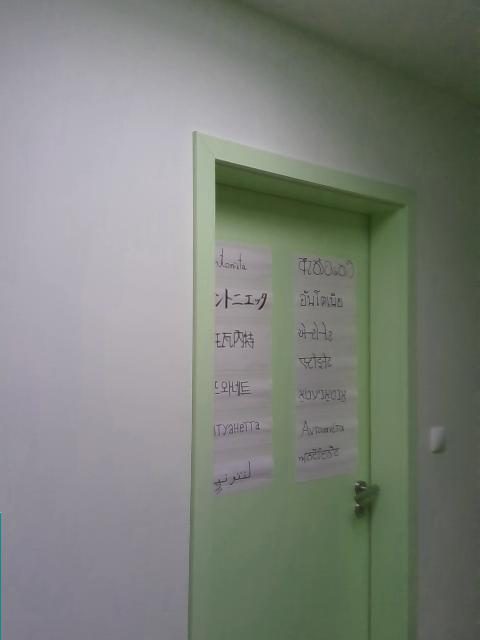closed_door: (187, 127, 423, 639)
